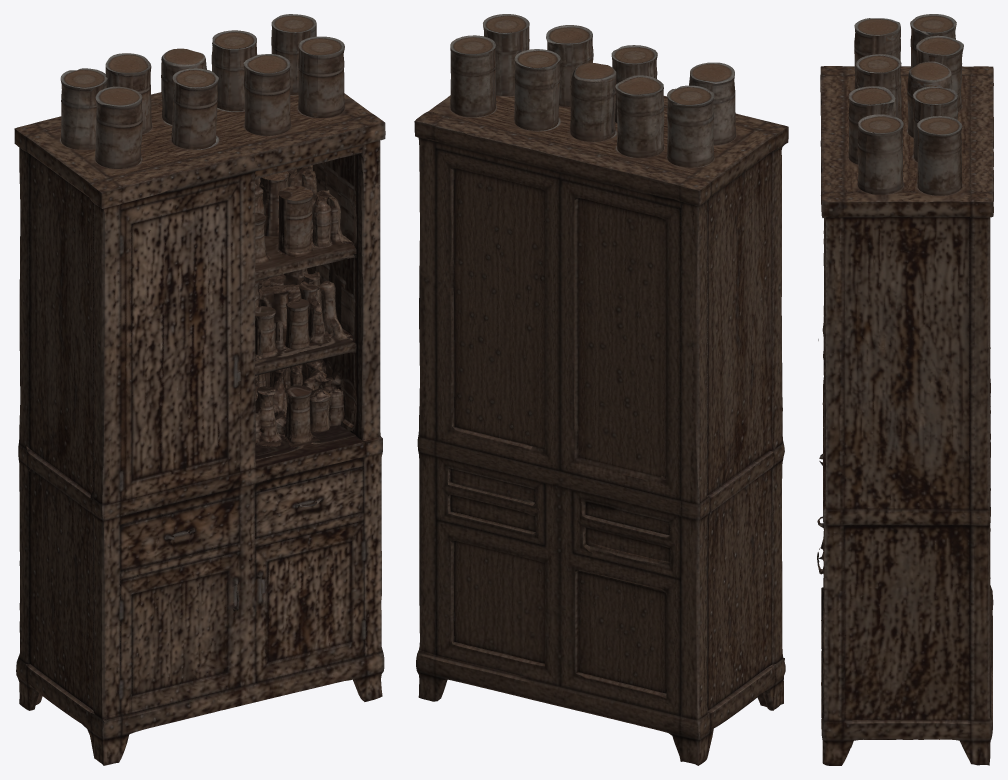
The model's file is armario.glb.
3 renders of one model, left to right at view 1: azimuth 30°, elevation 25°; view 2: azimuth 150°, elevation 25°; view 3: azimuth 270°, elevation 25°, orthographic. The views are drawn at different scales.
Parts seen in each view (by area): view 1: Mesh0; view 2: Mesh0; view 3: Mesh0.
Part boxes in pixels (x1,y1,x2,y2): Mesh0: (14,14,385,765); Mesh0: (414,14,788,765); Mesh0: (817,14,993,765).
Size of the model in its own units: 0.8906 by 1.9 by 0.4862.
Materials: 1 (1 with a texture image).
